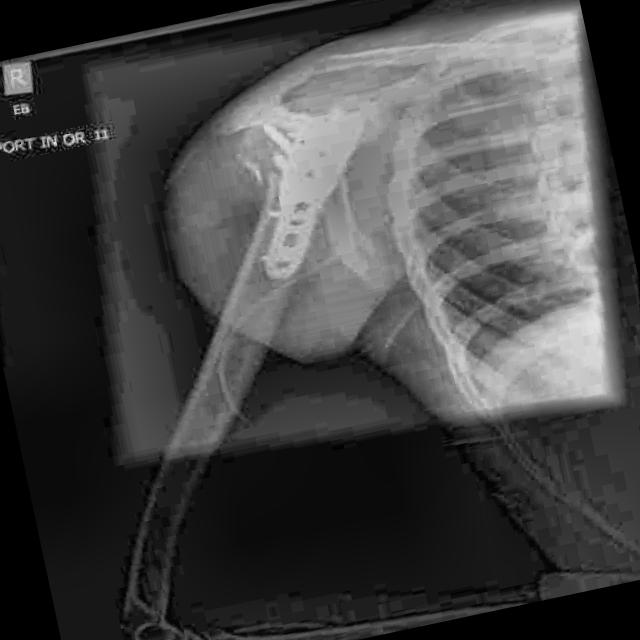shoulder fracture: (224, 154, 290, 207)
